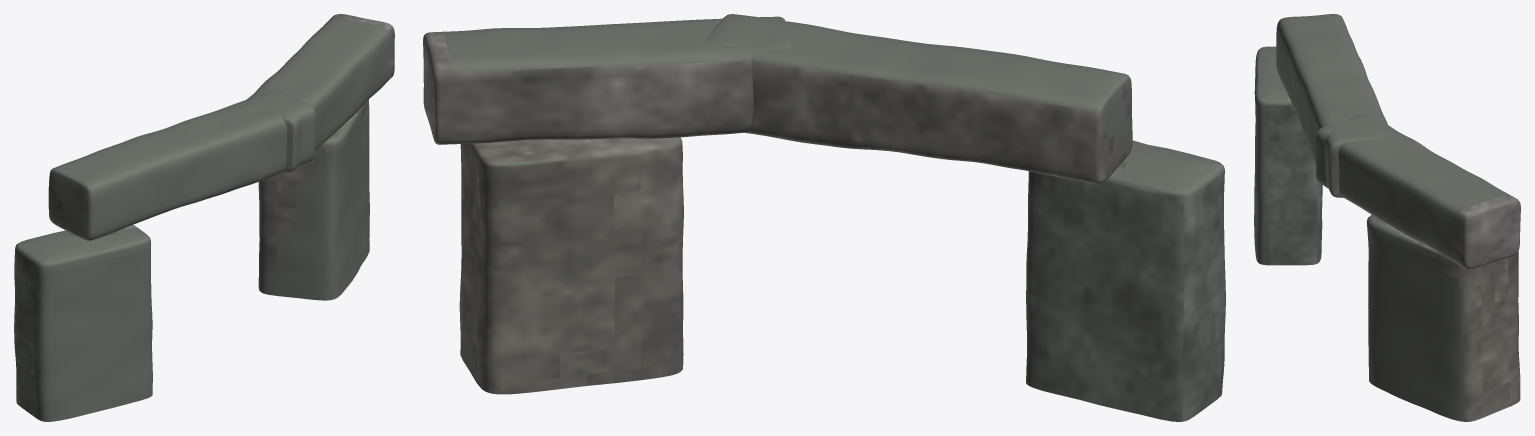
The model's file is AraHenge04.glb.
The picture shows the model from 3 angles, left to right: view 1: azimuth 30°, elevation 25°; view 2: azimuth 150°, elevation 25°; view 3: azimuth 270°, elevation 25°; orthographic projection. The views are drawn at different scales.
Visible parts, largest first — view 1: AraHenge04; view 2: AraHenge04; view 3: AraHenge04.
Boxes of the visible parts, <box> form: AraHenge04: <box>14,14,394,421</box>; AraHenge04: <box>423,14,1225,421</box>; AraHenge04: <box>1254,14,1520,421</box>.
Size of the model in its own units: 5.82 by 2.66 by 2.88.
Materials: 2 (1 with a texture image).
